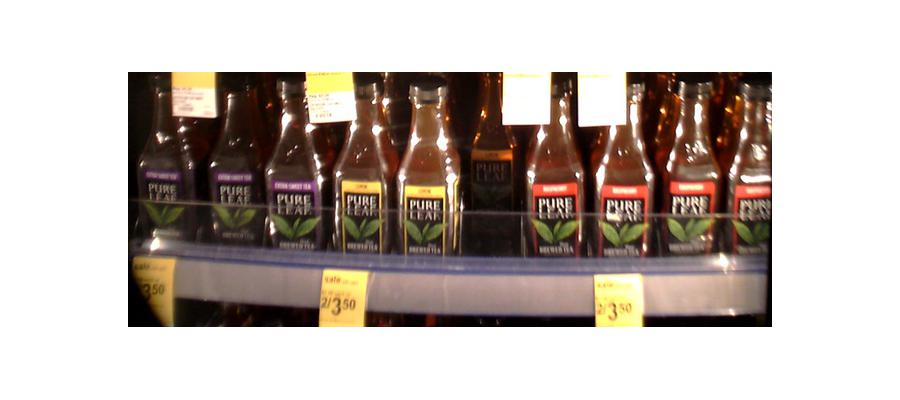bottle: (659, 70, 723, 260), (328, 75, 393, 255), (592, 84, 655, 262), (138, 78, 204, 246), (396, 75, 456, 259), (528, 81, 589, 258), (264, 80, 323, 247), (207, 75, 261, 248), (730, 74, 774, 264), (465, 78, 509, 227)
